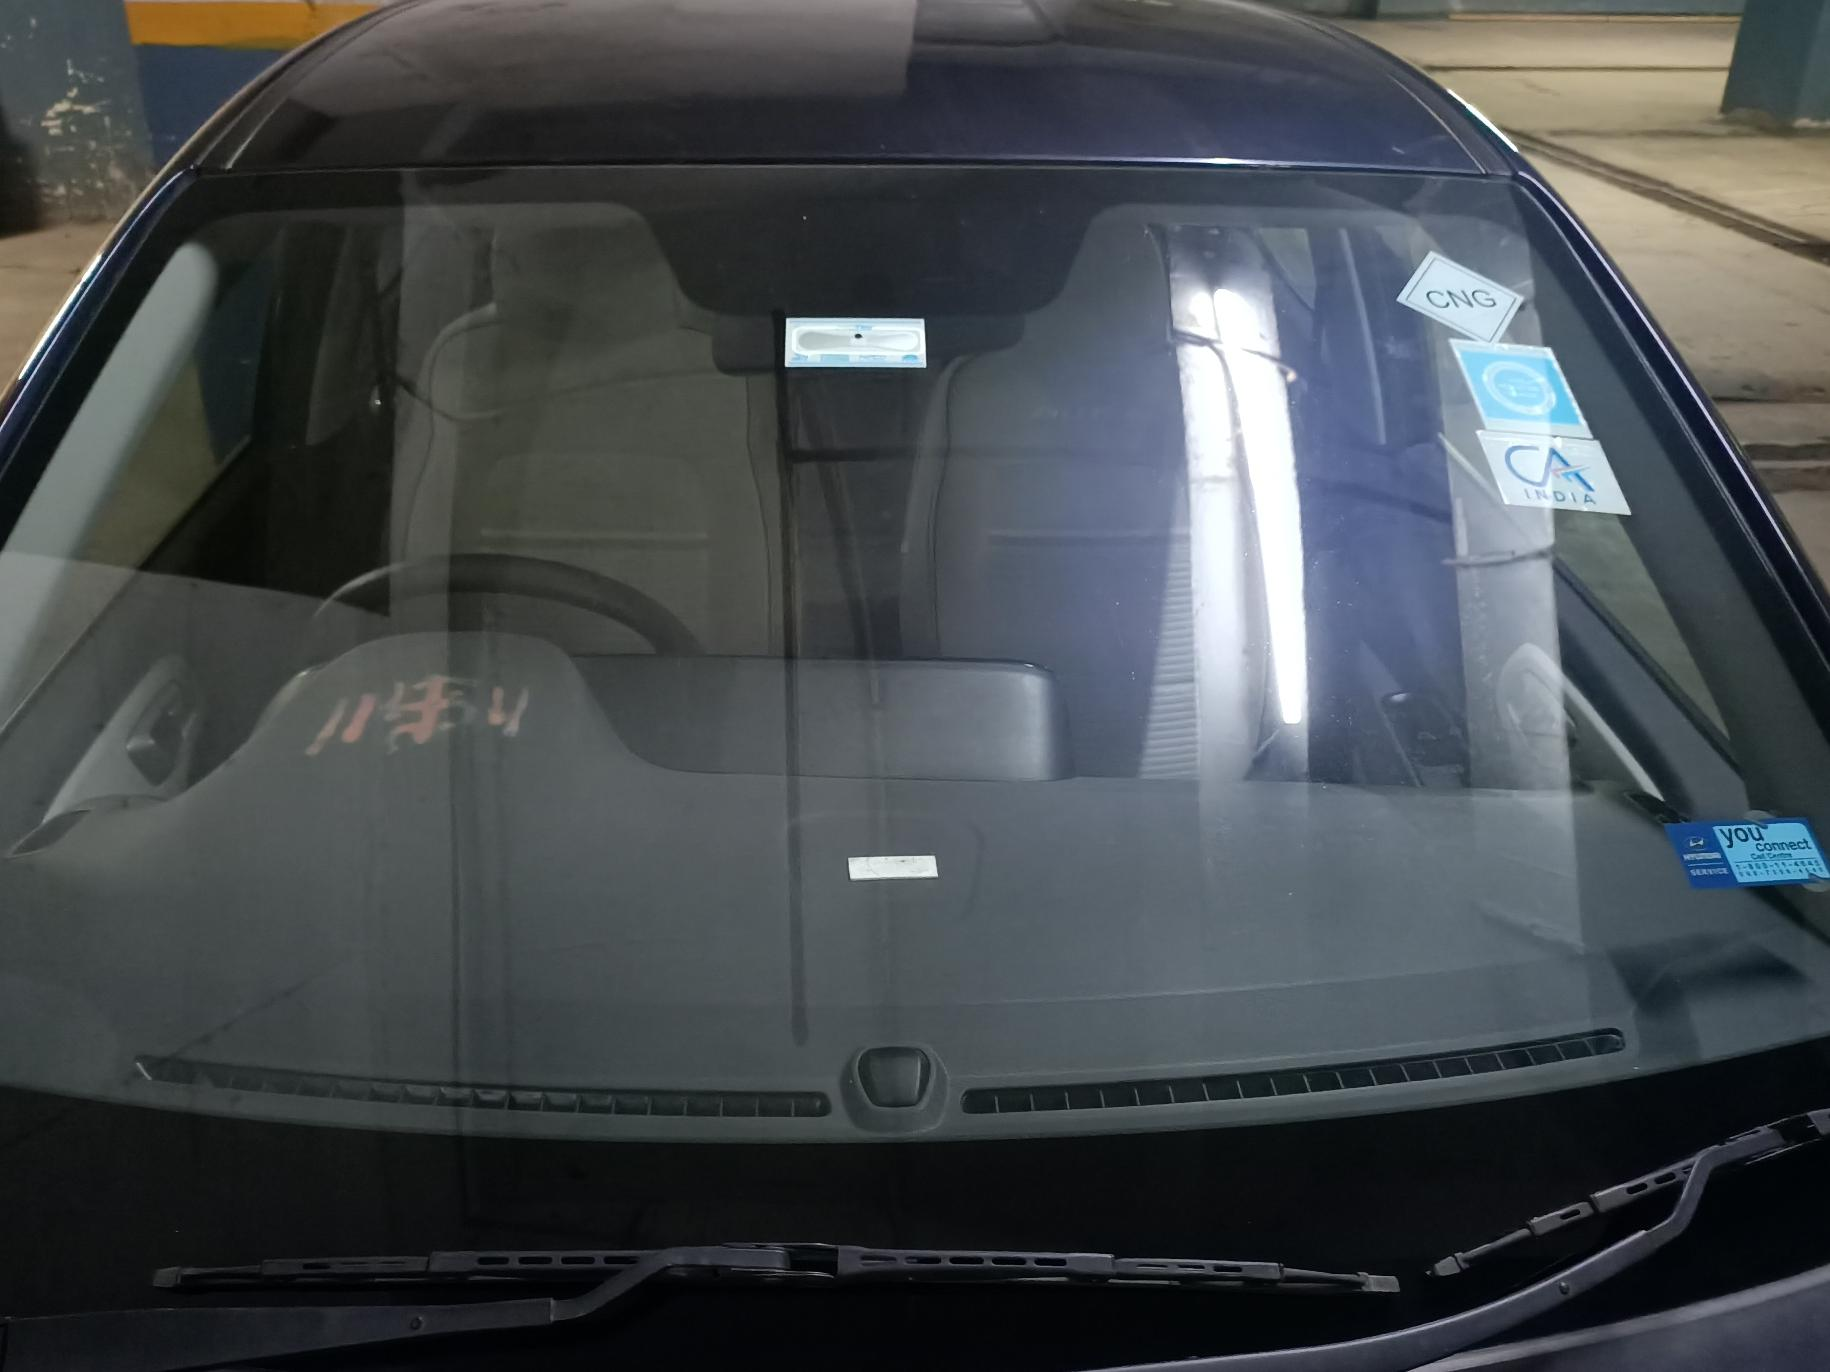FastTag: (774, 304, 938, 389)
not a FastTag: (1656, 801, 1830, 931), (1474, 398, 1656, 522), (1391, 233, 1537, 357), (1461, 333, 1599, 438)
